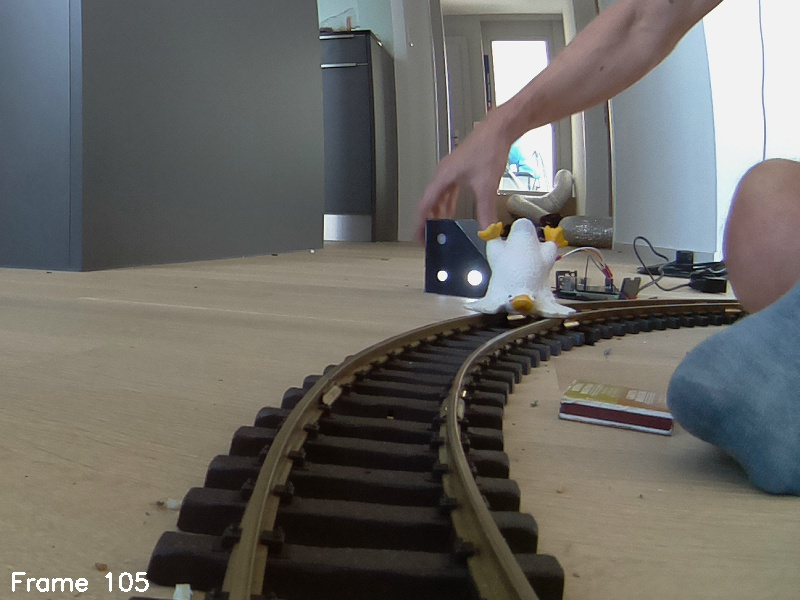Halt: (425, 217, 492, 302)
